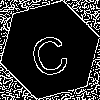C: (25, 25, 72, 79)
